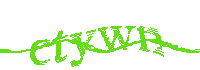c: (28, 36, 52, 67)
n: (137, 26, 165, 55)
t: (53, 28, 69, 65)
w: (97, 24, 135, 52)
y: (69, 30, 96, 67)
